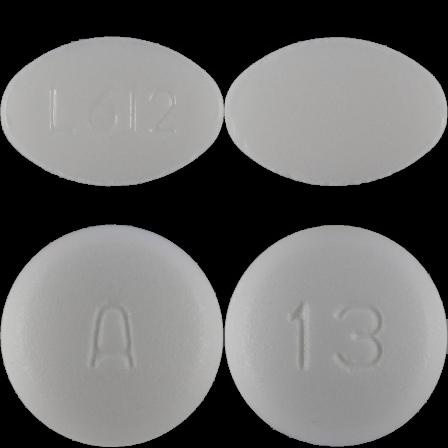53808-0457: (0, 0, 224, 224)
